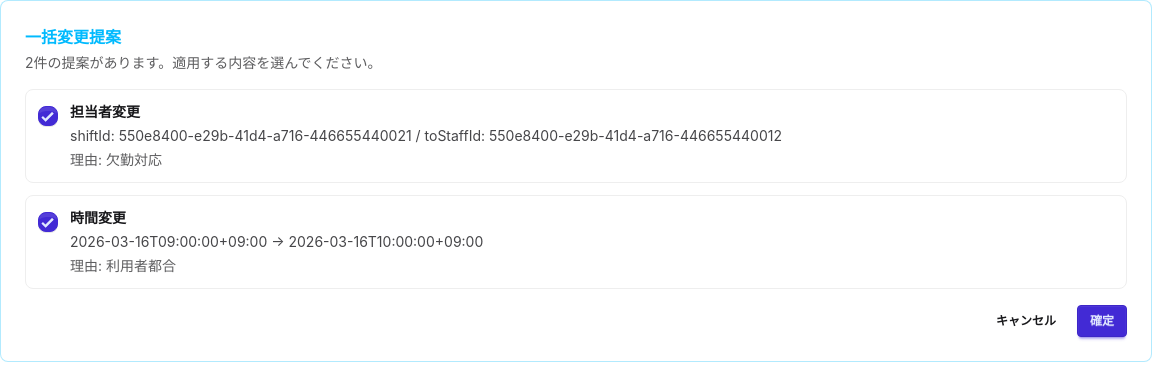
BatchProposalConfirmCard › すべて未承認にすると確定ボタンが無効になる
What coordinates should you click on to do the following:
click the checkbox named "1件目の提案を承認"
I would click on:
 (48, 116)
Its box is x1=38 y1=106 x2=58 y2=126.
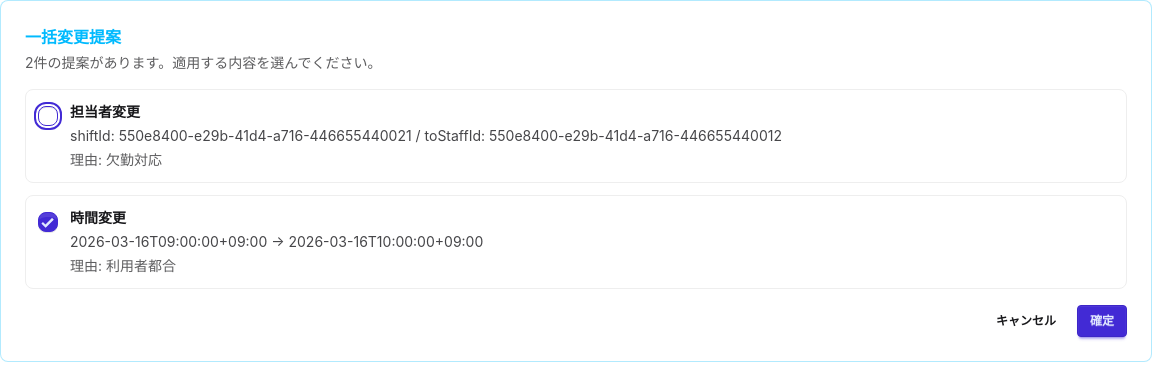
What coordinates should you click on to do the following:
click the checkbox named "2件目の提案を承認"
I would click on:
 (48, 222)
Its box is x1=38 y1=212 x2=58 y2=232.
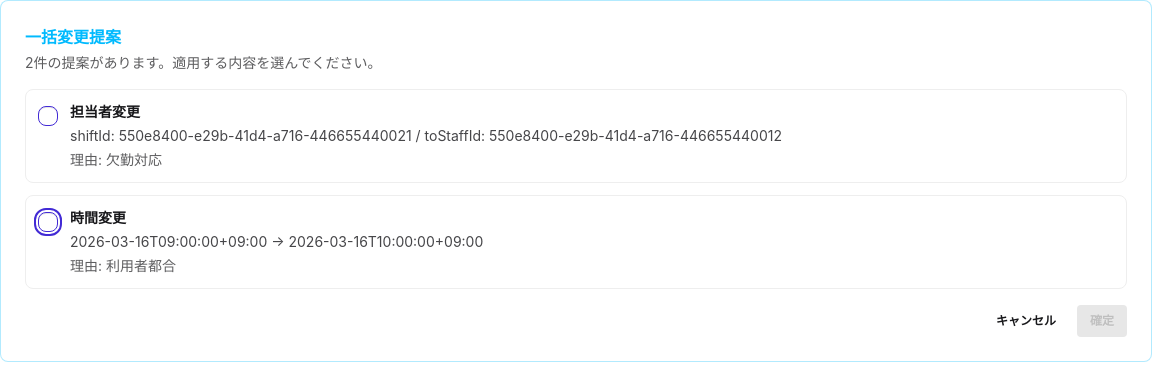
Expected: the button "確定" is disabled, x1=1077 y1=305 x2=1127 y2=337
